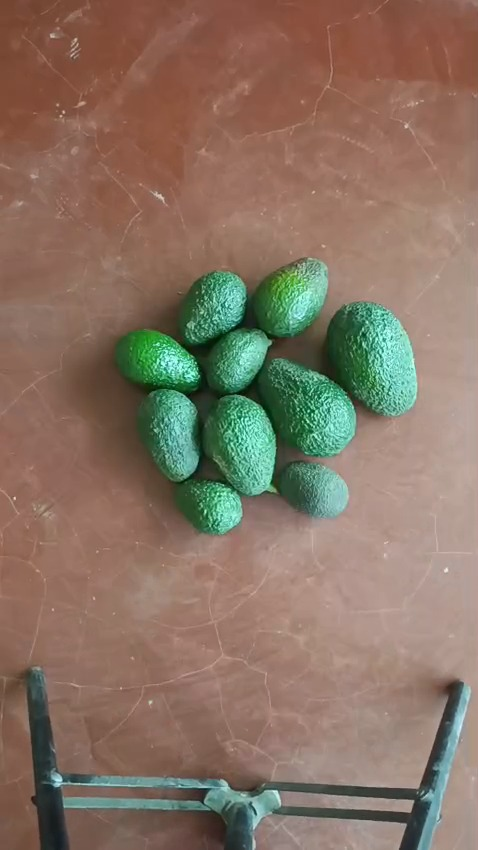Primera: (324, 302, 418, 416), (257, 357, 356, 456), (202, 393, 277, 495)
Segunda: (136, 385, 204, 480), (251, 258, 328, 339), (114, 329, 203, 394), (177, 270, 248, 347)
Tercera: (201, 326, 274, 395), (275, 459, 348, 517), (173, 477, 244, 534)
